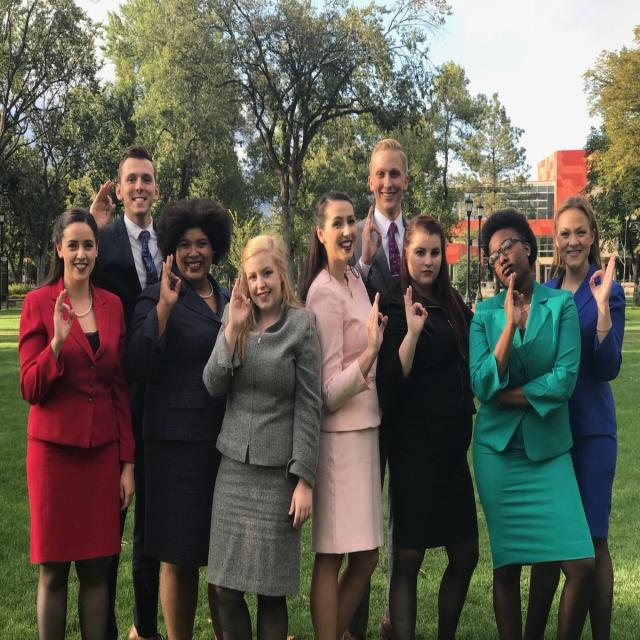body: (464, 205, 601, 639), (16, 203, 137, 639), (199, 232, 328, 639), (125, 193, 236, 640), (371, 210, 484, 639), (524, 196, 627, 640), (295, 187, 391, 639), (85, 145, 168, 640), (343, 136, 413, 640), (21, 268, 28, 287)
